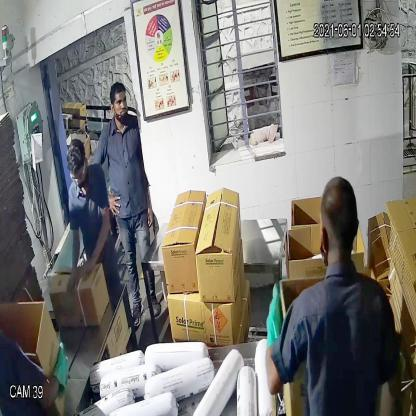goggles: (66, 160, 90, 188)
no_goggles: (105, 92, 132, 114)
